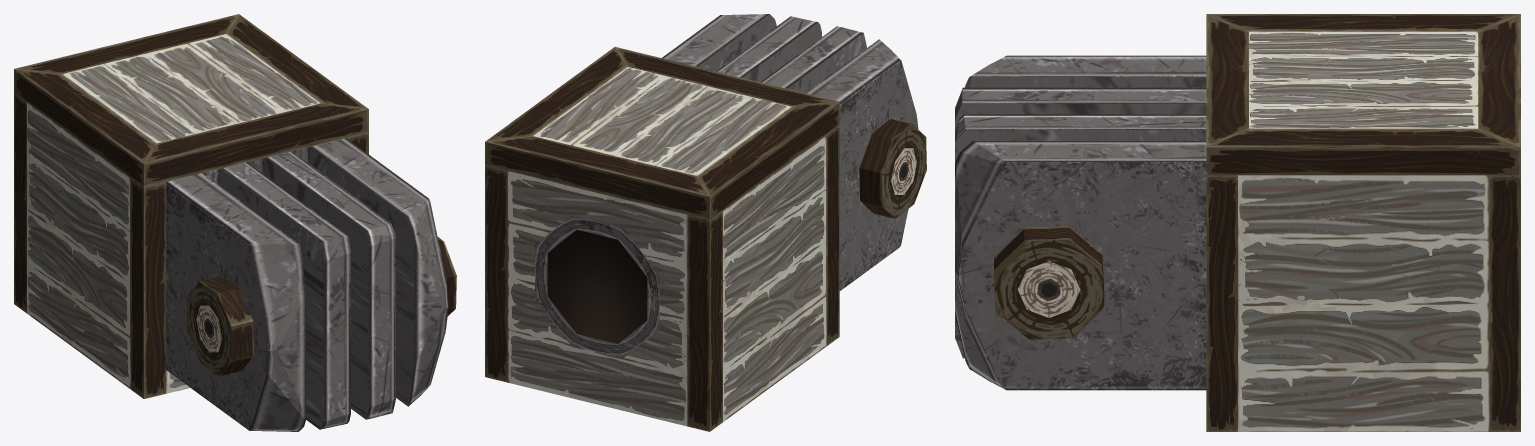
File: PipeWaterPump.IronTeeth.Model.fbx
3 renders of one model, left to right at view 1: azimuth 30°, elevation 25°; view 2: azimuth 150°, elevation 25°; view 3: azimuth 270°, elevation 25°, orthographic. The views are drawn at different scales.
Visible parts, largest first — view 1: WaterPump.IronTeeth; view 2: WaterPump.IronTeeth; view 3: WaterPump.IronTeeth.
Boxes of the visible parts, x1,y1,x2,y2 form: WaterPump.IronTeeth: [14, 14, 456, 431]; WaterPump.IronTeeth: [485, 14, 926, 431]; WaterPump.IronTeeth: [955, 14, 1520, 431].
Size of the model in its own units: 100 by 100 by 180.
